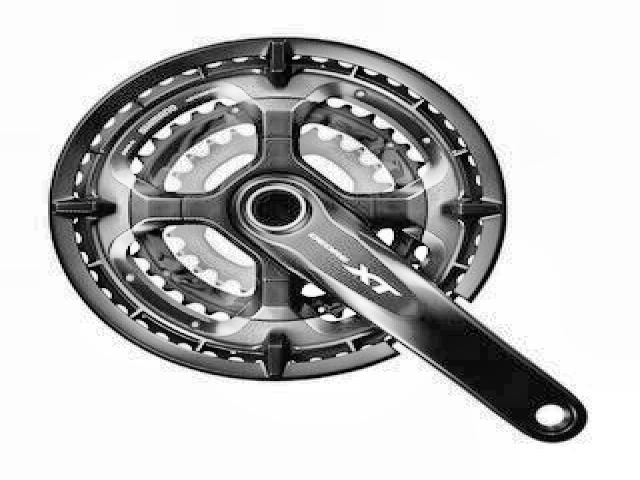cranks_set: (46, 35, 591, 444)
